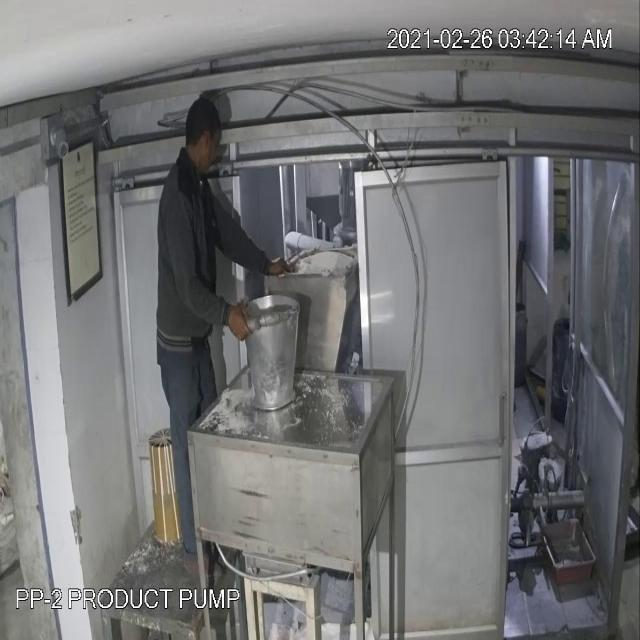no-helmet: (183, 93, 223, 187)
